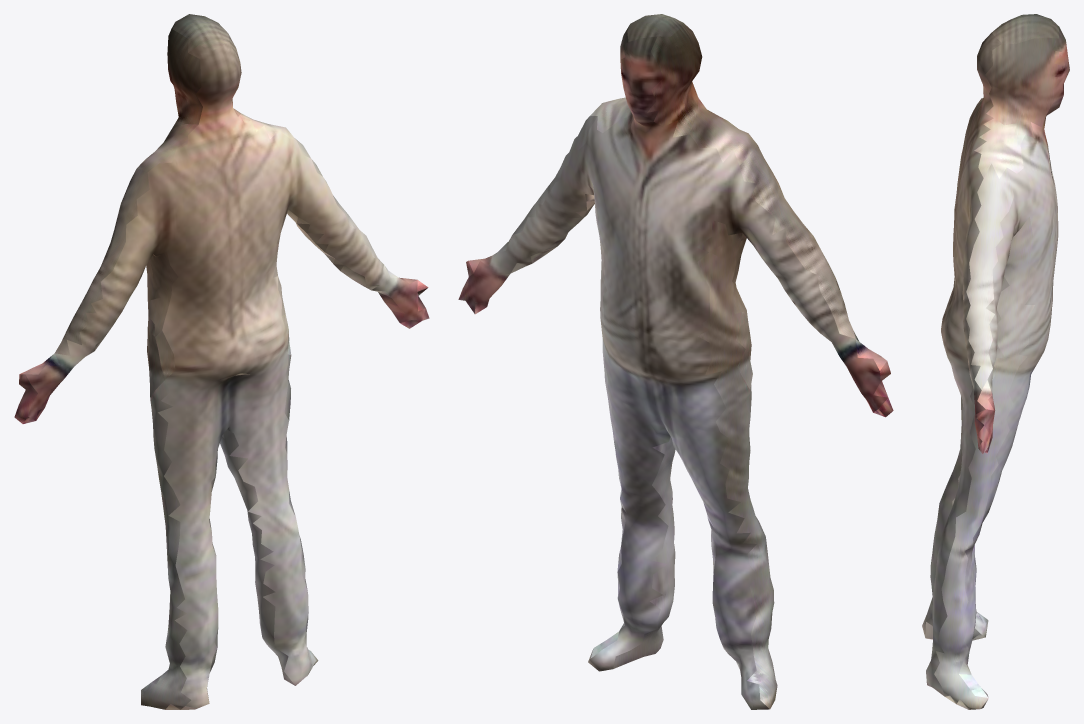
The picture shows the model from 3 angles, left to right: view 1: azimuth 30°, elevation 25°; view 2: azimuth 150°, elevation 25°; view 3: azimuth 270°, elevation 25°; orthographic projection. The views are drawn at different scales.
Parts seen in each view (by area): view 1: world; view 2: world; view 3: world.
Part boxes in pixels (left/top/right/bottom): world: left=14, top=14, right=429, bottom=709; world: left=458, top=14, right=893, bottom=709; world: left=922, top=14, right=1069, bottom=709.
Size of the model in its own units: 0.6689 by 1.01 by 0.2069.
Materials: 1 (1 with a texture image).
